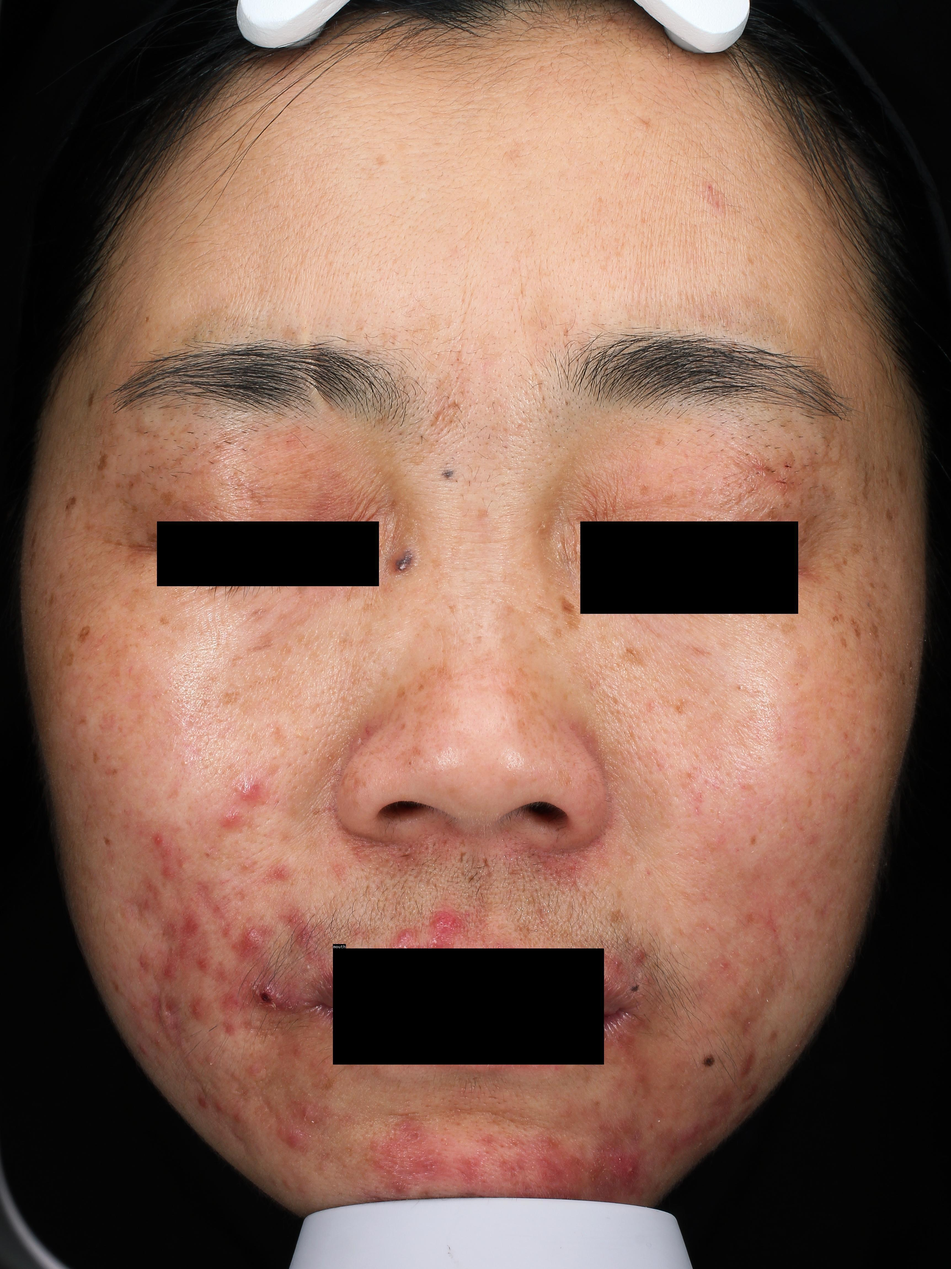atrophic_scar: (120, 876, 166, 932), (748, 455, 804, 499), (812, 427, 851, 483), (241, 1015, 289, 1042), (230, 1126, 251, 1158), (803, 510, 828, 533), (862, 455, 871, 502), (151, 996, 162, 1029), (164, 998, 178, 1021), (447, 401, 463, 418), (430, 410, 443, 427), (456, 851, 469, 864), (410, 1129, 421, 1143), (235, 891, 246, 903), (483, 856, 491, 870), (510, 868, 521, 877), (595, 195, 604, 203), (484, 871, 493, 879), (538, 907, 544, 919), (459, 838, 466, 848), (468, 875, 476, 882), (501, 714, 507, 722), (539, 519, 543, 529)
closed_comedo: (303, 963, 311, 971), (349, 695, 356, 703), (181, 761, 189, 767), (738, 684, 744, 691), (626, 855, 634, 860), (680, 699, 688, 704), (243, 863, 250, 868), (543, 523, 547, 530), (793, 937, 797, 941), (637, 173, 640, 177)
hypertrophic_scar: (159, 989, 178, 1044)
melasma: (503, 686, 560, 746), (127, 452, 191, 490), (230, 470, 269, 512), (305, 484, 336, 533), (862, 654, 907, 686), (229, 635, 276, 665), (247, 669, 292, 694), (417, 662, 458, 688), (338, 626, 375, 654), (119, 586, 154, 612), (559, 594, 582, 630), (622, 646, 654, 668), (122, 552, 148, 575), (531, 606, 560, 625), (142, 530, 167, 550), (219, 690, 242, 709), (294, 631, 319, 648), (393, 745, 421, 760), (61, 641, 76, 668), (114, 636, 132, 658), (75, 624, 91, 647), (608, 907, 626, 927), (279, 327, 301, 342), (653, 426, 668, 448), (277, 643, 296, 660), (429, 551, 444, 572), (64, 495, 78, 517), (868, 621, 882, 643), (660, 492, 680, 507), (359, 602, 383, 614), (134, 413, 146, 437), (874, 605, 887, 627), (95, 452, 109, 472), (410, 702, 429, 716), (395, 683, 409, 701), (673, 702, 691, 716), (82, 518, 97, 533), (160, 490, 174, 506), (476, 506, 492, 520), (177, 422, 195, 434), (248, 607, 267, 618), (778, 623, 798, 633), (338, 773, 349, 790), (798, 534, 811, 548), (851, 542, 864, 556), (87, 390, 97, 408), (48, 591, 57, 610), (551, 625, 564, 638), (143, 445, 156, 458), (756, 609, 770, 621), (304, 452, 318, 464), (834, 562, 845, 577), (92, 750, 103, 765), (212, 442, 227, 453), (351, 778, 361, 793), (870, 555, 882, 567), (834, 590, 846, 602), (530, 690, 540, 704), (68, 556, 78, 570), (880, 581, 891, 593), (135, 623, 147, 634), (161, 614, 170, 628), (749, 833, 758, 847), (393, 712, 402, 726), (78, 715, 89, 726), (518, 667, 529, 678), (840, 555, 850, 567), (414, 684, 426, 694), (875, 648, 883, 663), (854, 624, 861, 641), (103, 836, 115, 845), (840, 511, 850, 521), (110, 764, 119, 775), (839, 636, 847, 648), (448, 604, 456, 616), (32, 532, 37, 550), (398, 723, 407, 732), (639, 487, 647, 497), (130, 505, 138, 515), (114, 538, 122, 548), (58, 569, 65, 580), (668, 609, 679, 616), (31, 552, 36, 567), (869, 582, 877, 591), (850, 614, 856, 626), (907, 659, 913, 671), (838, 613, 845, 623), (831, 615, 839, 622), (115, 482, 123, 489), (193, 442, 199, 451), (145, 315, 150, 323), (824, 574, 830, 580), (170, 432, 175, 437)
nevus: (392, 548, 417, 576), (703, 1052, 715, 1068), (443, 470, 456, 481), (630, 984, 640, 993)
nodule: (602, 1154, 642, 1200)
open_comedo: (407, 761, 413, 767), (455, 356, 460, 362), (206, 852, 210, 856)
other: (297, 315, 339, 422)
papule: (249, 977, 293, 1011), (238, 925, 265, 955), (429, 912, 465, 934), (234, 779, 261, 804), (285, 1125, 303, 1150), (192, 997, 209, 1020), (397, 925, 416, 945), (299, 1105, 316, 1126), (222, 812, 241, 829), (296, 925, 311, 946), (164, 962, 179, 979), (273, 868, 290, 883), (284, 910, 300, 925), (211, 1099, 226, 1114), (162, 864, 176, 880), (230, 1113, 245, 1125), (196, 958, 209, 971), (198, 1095, 210, 1107), (629, 952, 642, 963), (204, 1053, 215, 1066), (612, 958, 623, 971), (746, 1087, 757, 1099), (401, 848, 412, 859), (159, 846, 170, 857), (153, 834, 163, 845), (212, 902, 223, 912), (249, 1063, 259, 1074), (139, 1043, 149, 1054), (282, 1179, 292, 1189), (354, 929, 363, 938), (327, 753, 335, 761), (328, 804, 335, 812), (647, 701, 654, 707), (139, 959, 145, 966)
